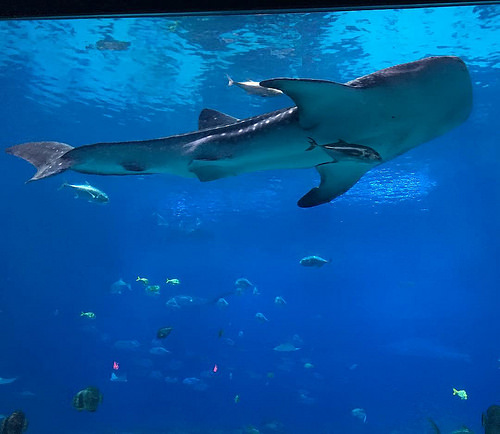shark: (7, 43, 481, 212)
